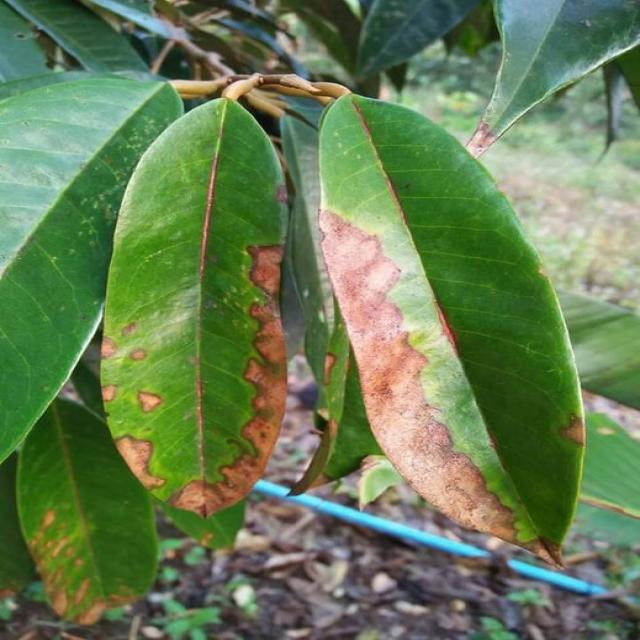Leaf Blight: (324, 212, 516, 550), (162, 240, 298, 514), (84, 324, 168, 502)
